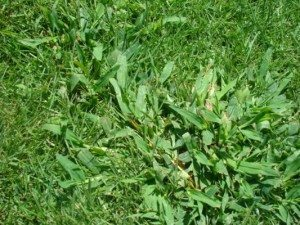crabgrass: (92, 67, 294, 219)
